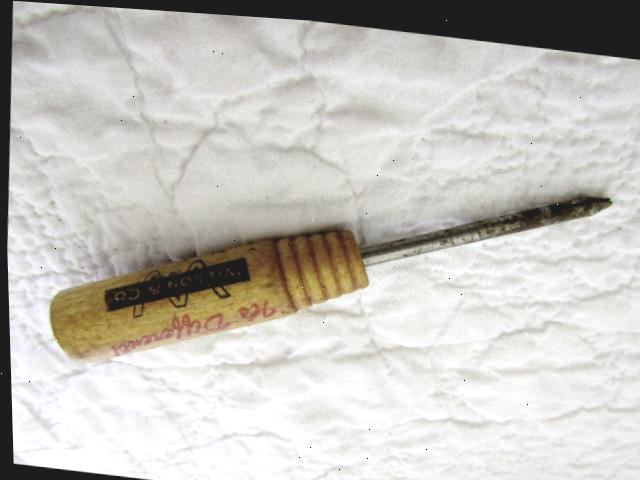ice pick: (41, 130, 618, 418)
